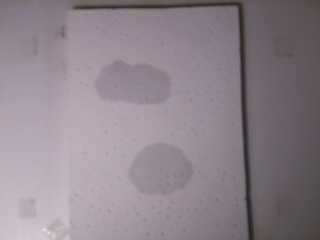Water_detected: (103, 70, 161, 104), (145, 151, 190, 191)
